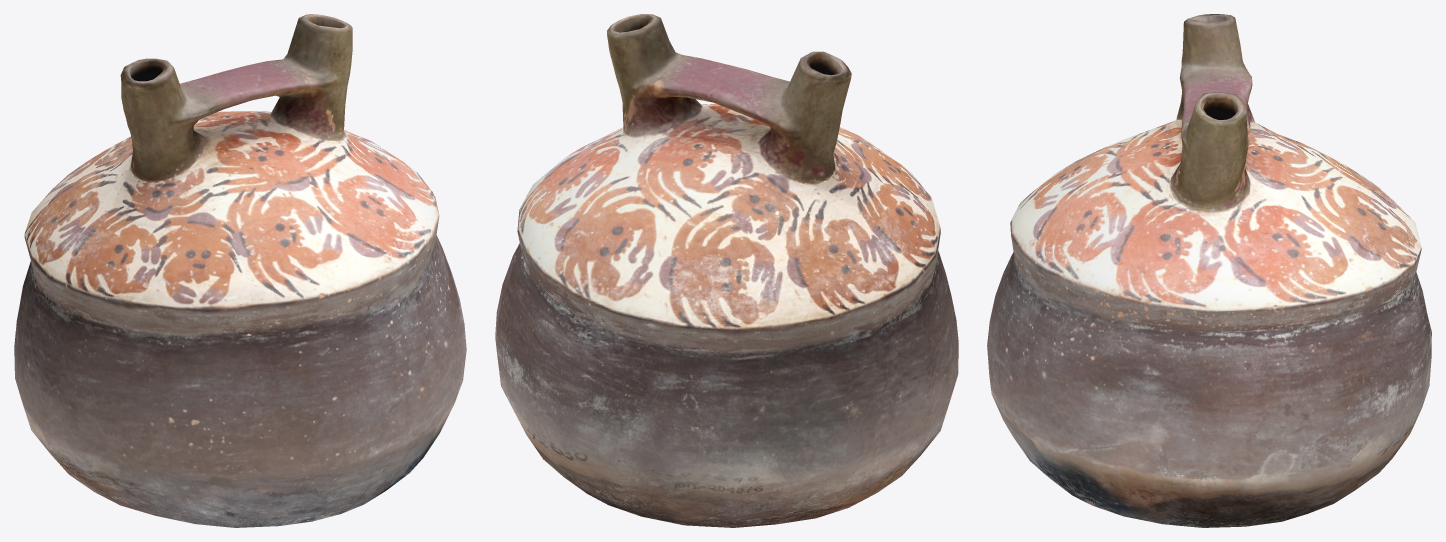
The model's file is objeto_12_nasca.glb.
The picture shows the model from 3 angles, left to right: view 1: azimuth 30°, elevation 25°; view 2: azimuth 150°, elevation 25°; view 3: azimuth 270°, elevation 25°; orthographic projection. The views are drawn at different scales.
Parts seen in each view (by area): view 1: Box001; view 2: Box001; view 3: Box001.
Boxes of the visible parts, x1,y1,x2,y2 form: Box001: (14, 14, 466, 527); Box001: (495, 14, 958, 527); Box001: (987, 14, 1431, 527).
Size of the model in its own units: 78.64 by 79.72 by 78.8.
Materials: 1 (1 with a texture image).
